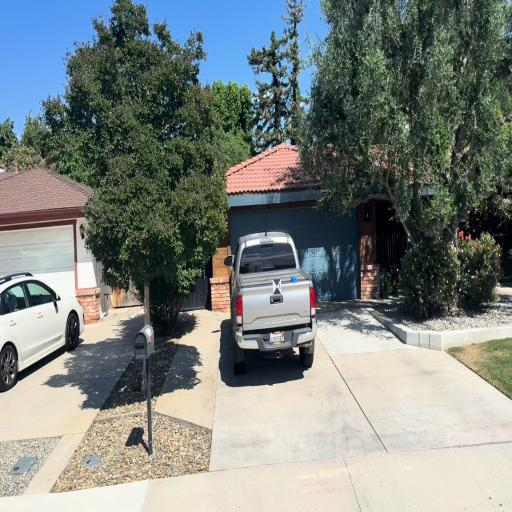target1: (272, 279, 282, 294)
